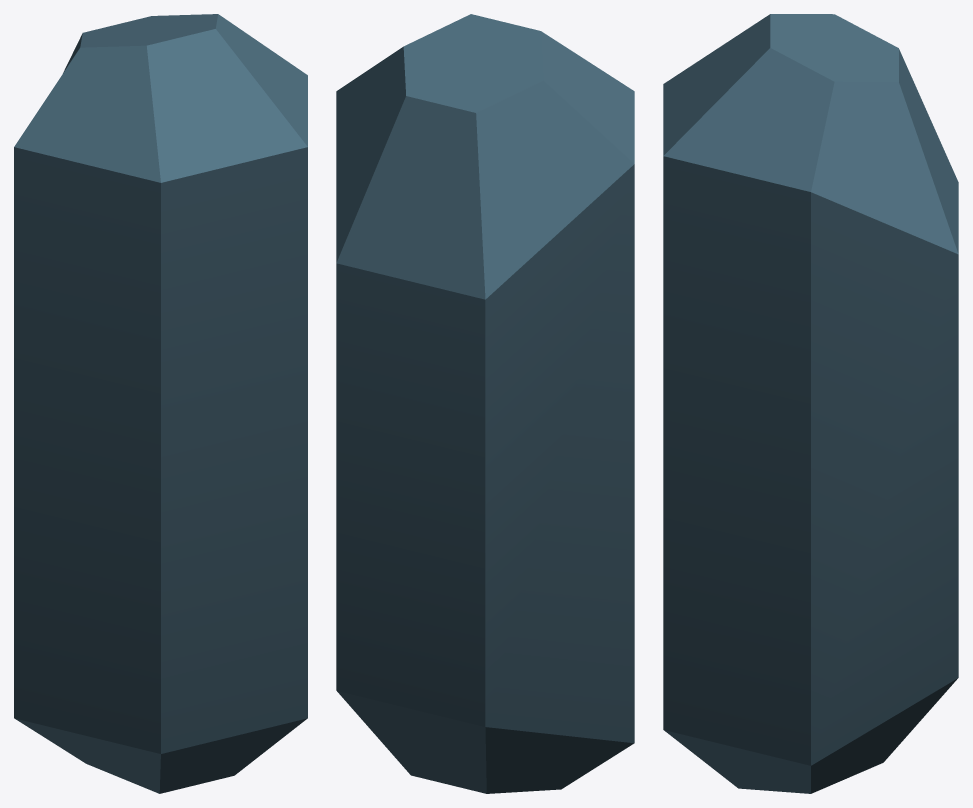
The model's file is geology-crystals-calcitecrystal_v12.fbx.
3 renders of one model, left to right at view 1: azimuth 30°, elevation 25°; view 2: azimuth 150°, elevation 25°; view 3: azimuth 270°, elevation 25°, orthographic.
Parts seen in each view (by area): view 1: CalciteCrystal_v12; view 2: CalciteCrystal_v12; view 3: CalciteCrystal_v12.
Part boxes in pixels (x1,y1,x2,y2): CalciteCrystal_v12: (14,14,307,793); CalciteCrystal_v12: (336,14,634,793); CalciteCrystal_v12: (663,14,958,793).
Size of the model in its own units: 1.39 by 3.33 by 1.21.
